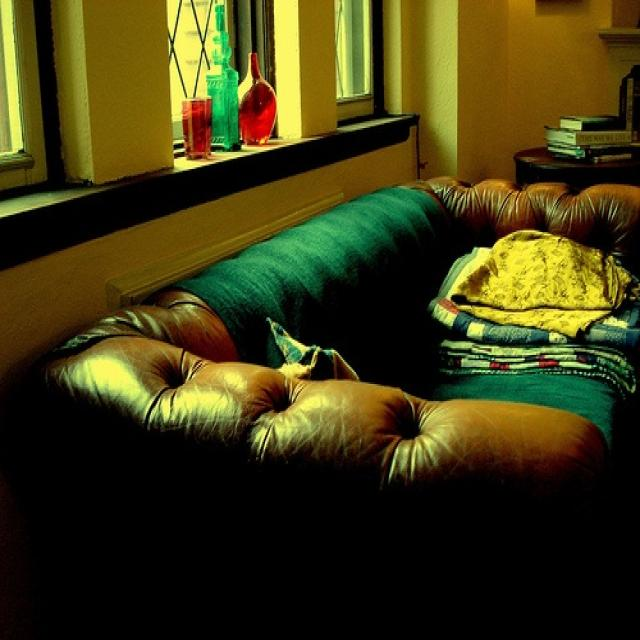sofa: (41, 174, 639, 638)
